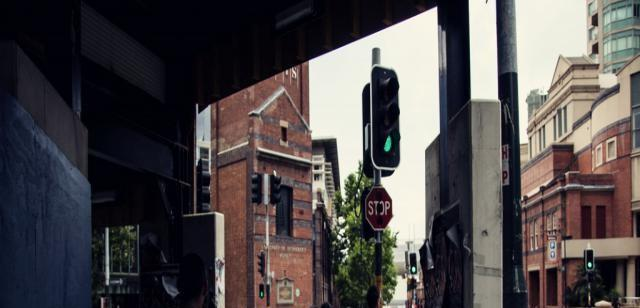green_light: (370, 64, 400, 170), (409, 253, 418, 275), (586, 249, 594, 270)
